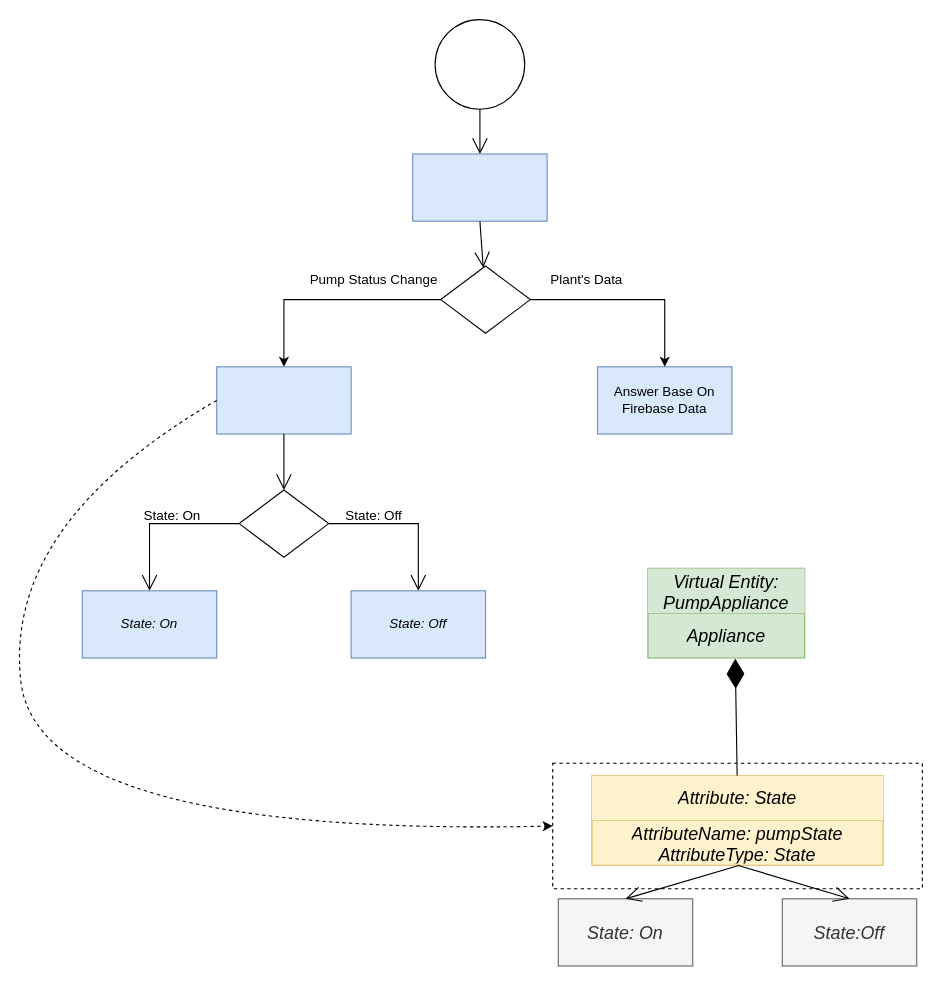
The diagram is 943 pixels wide and 986 high, and some of its shapes have lost their labels. Each missing label, with the centre of its shape:
Pump-State: [283,400]
User's Voice Detection: [479,187]
